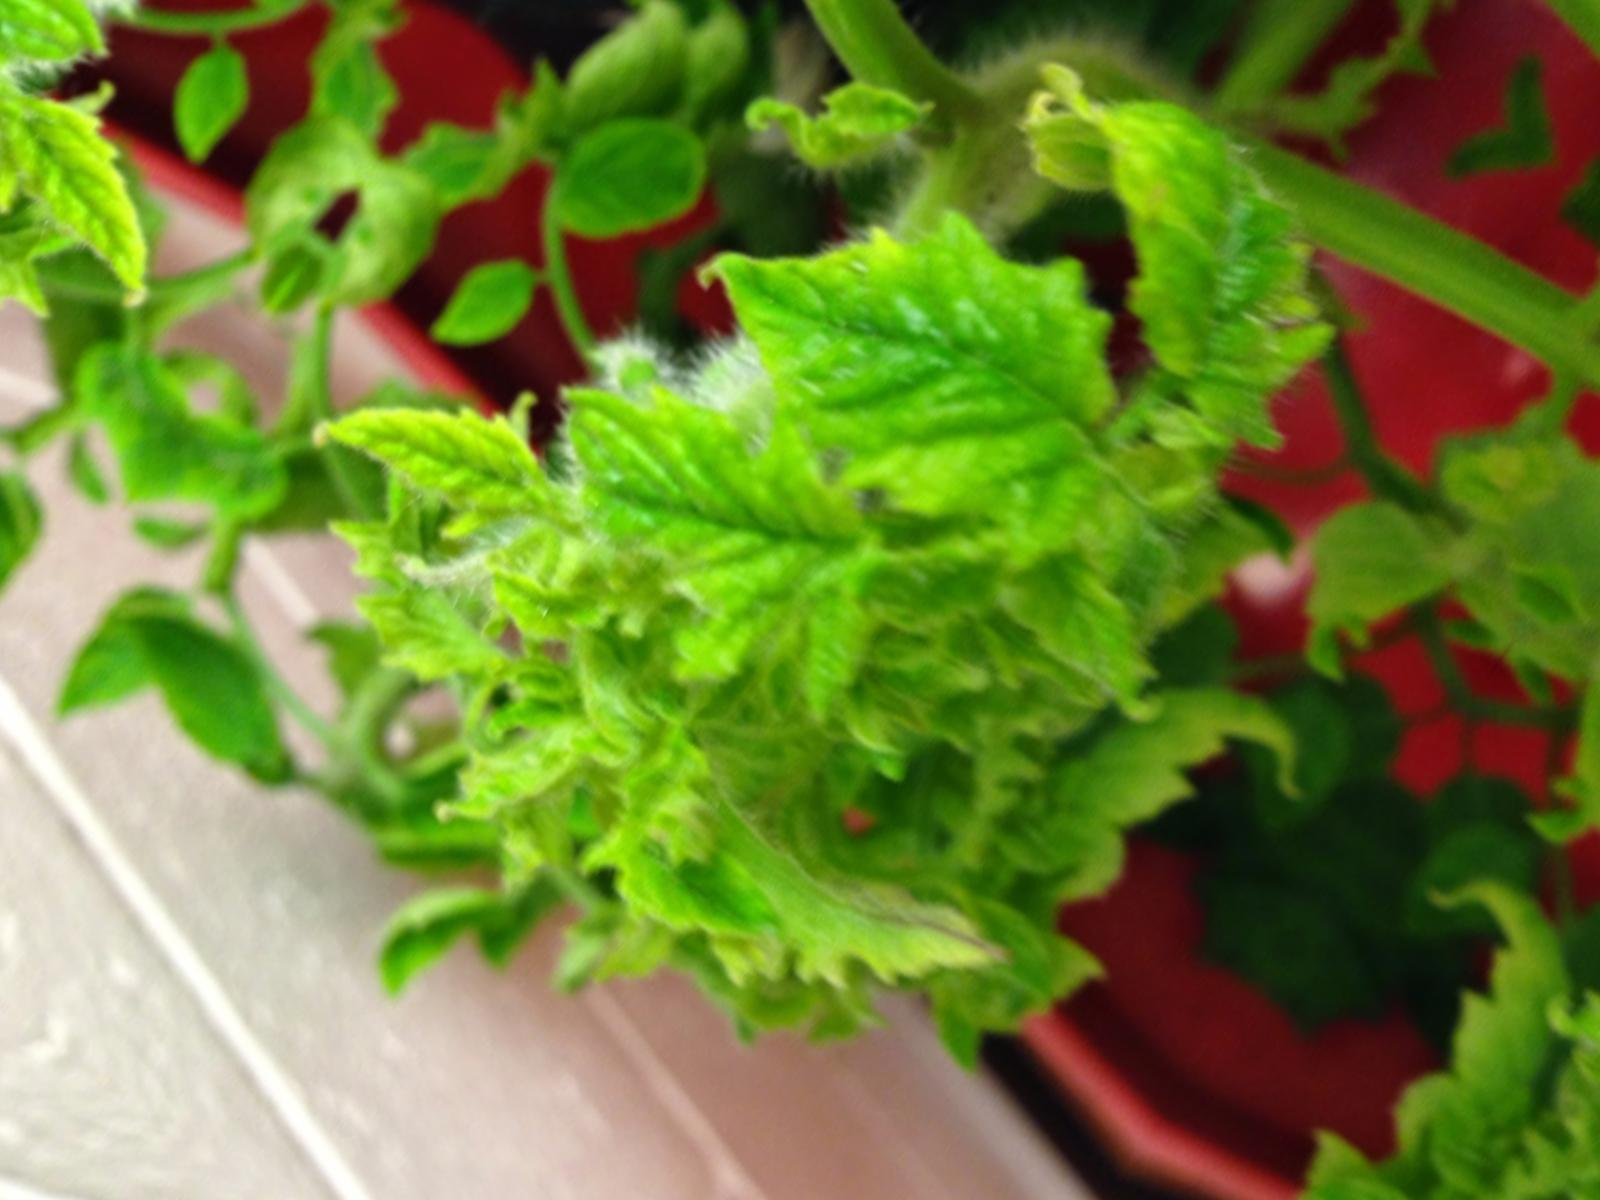Tomato leaf yellow virus: (653, 66, 1245, 611), (450, 272, 974, 734), (912, 1, 1405, 447)
